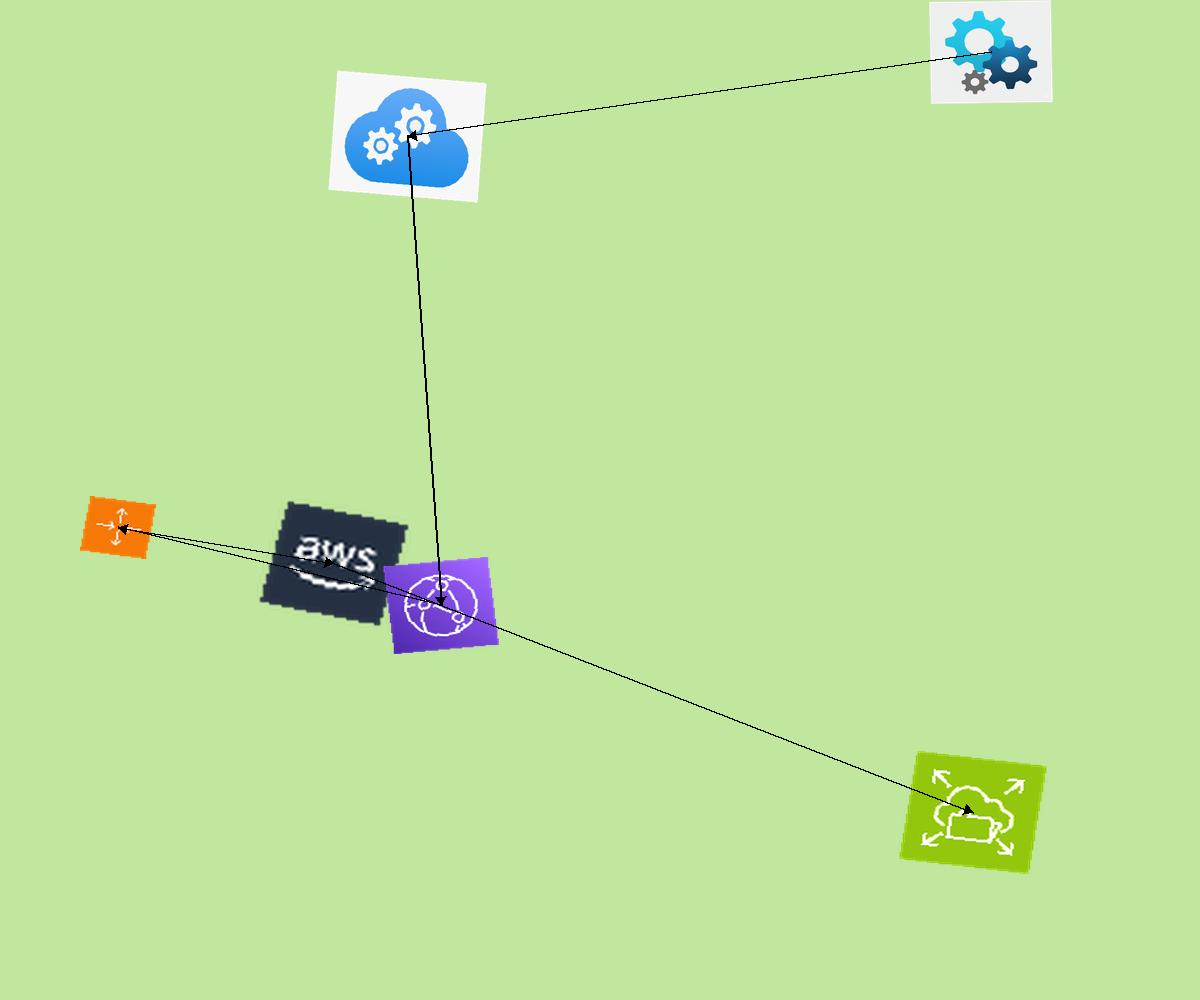AWS-Cloud-logo: (257, 499, 411, 628)
AWS-CloudFront: (382, 556, 500, 655)
AWS-EFS: (898, 750, 1048, 875)
AWS-Scaling-group: (80, 496, 156, 559)
Azure_api: (929, 0, 1053, 104)
Azure_cloud_services: (328, 70, 487, 203)
